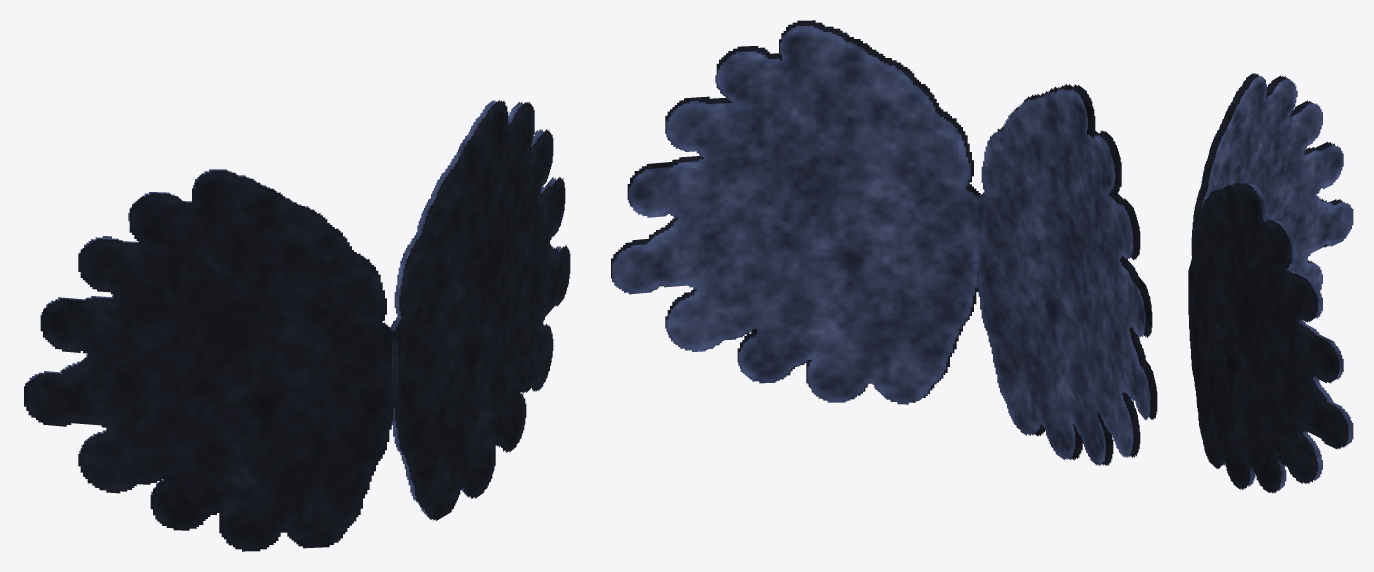
The model's file is owner_storm_wings.glb.
3 views of the same model, side by side, from view 1: azimuth 30°, elevation 25°; view 2: azimuth 150°, elevation 25°; view 3: azimuth 270°, elevation 25° (orthographic). The views are drawn at different scales.
Parts seen in each view (by area): view 1: Owner Storm Wings Wing Right, Owner Storm Wings Wing Left; view 2: Owner Storm Wings Wing Left, Owner Storm Wings Wing Right; view 3: Owner Storm Wings Wing Left, Owner Storm Wings Wing Right.
Part boxes in pixels (box(x1,y1,x2,y2)): Owner Storm Wings Wing Right: box(24, 169, 397, 551); Owner Storm Wings Wing Left: box(390, 100, 570, 520); Owner Storm Wings Wing Left: box(611, 20, 980, 404); Owner Storm Wings Wing Right: box(977, 84, 1157, 465); Owner Storm Wings Wing Left: box(1188, 182, 1353, 493); Owner Storm Wings Wing Right: box(1188, 73, 1353, 328).
Size of the model in its own units: 1.9 by 1.28 by 0.6179.
Materials: 2 (2 with a texture image).
